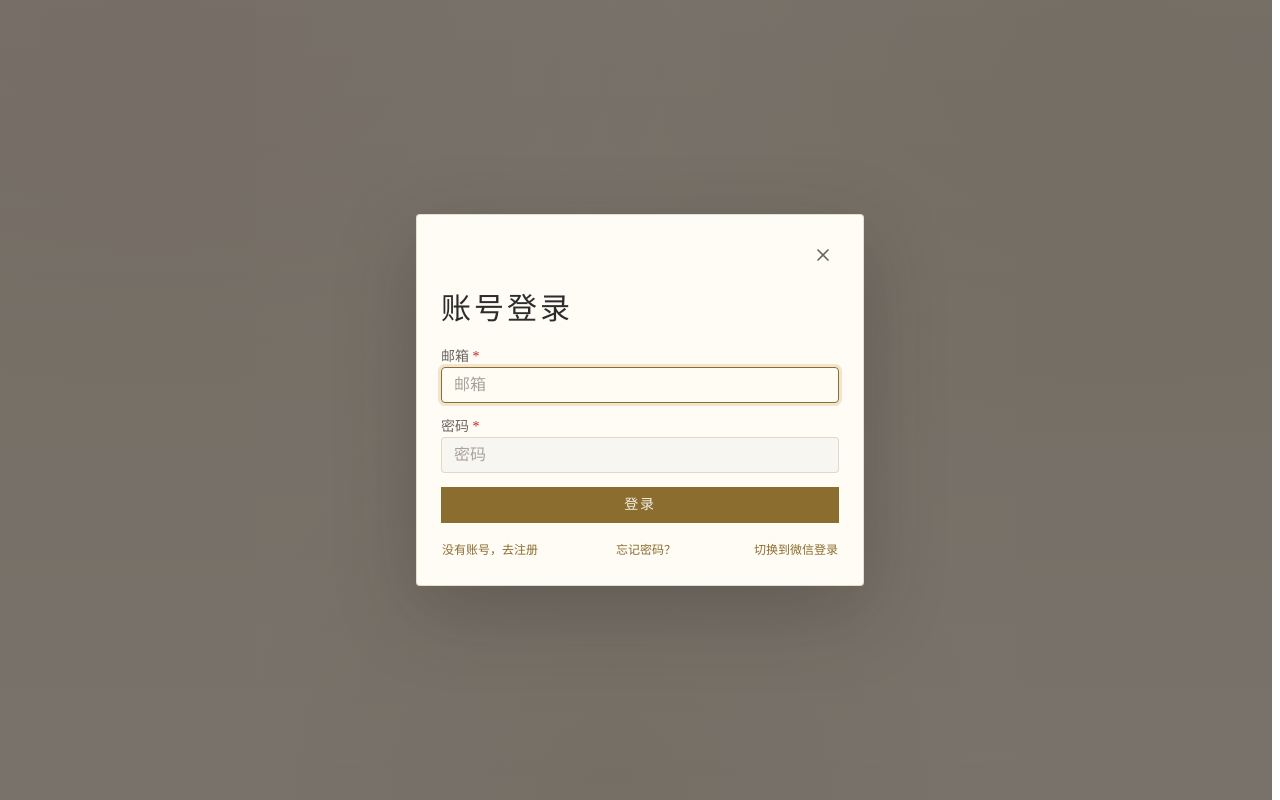
AuthModal › requests password reset from login mode
This screenshot has width=1280, height=800.
Click the button "忘记密码？". click: (646, 550)
box: [615,539,677,561]
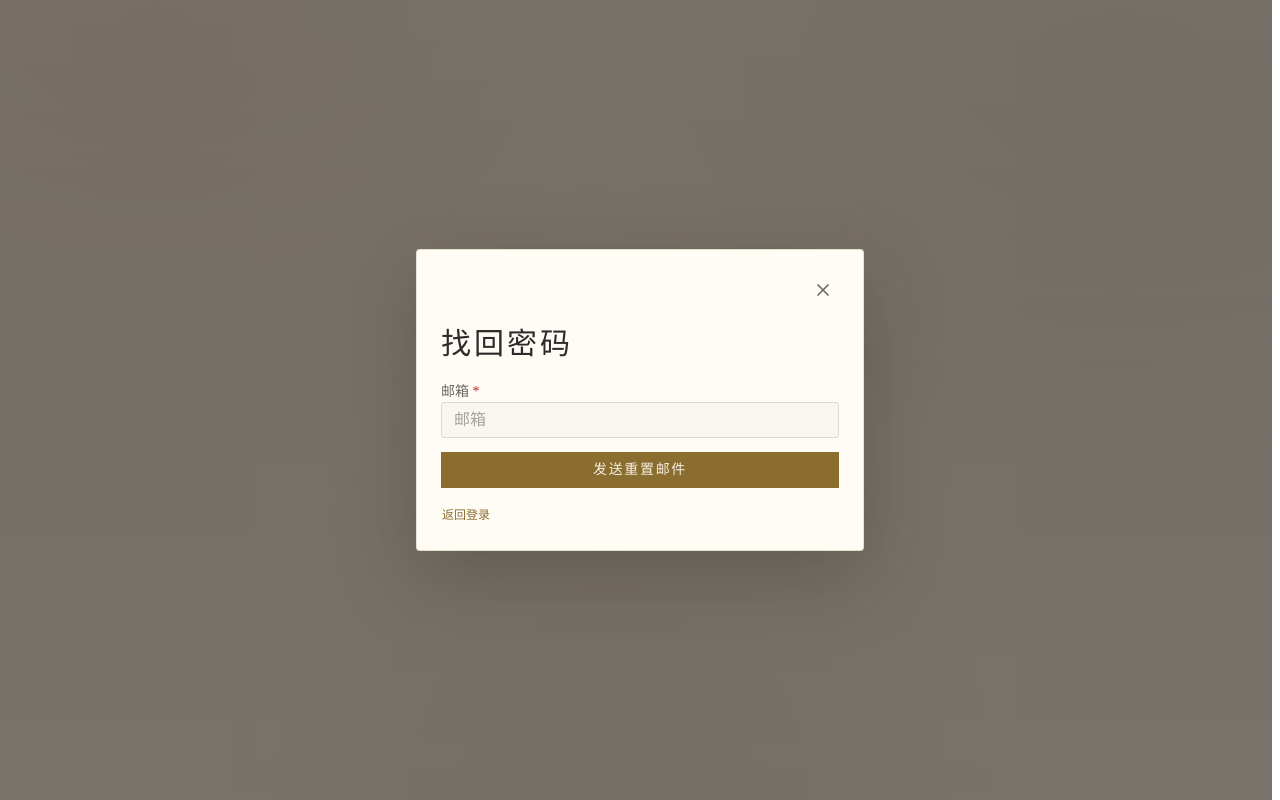
Expected: the heading "找回密码" is shown, [441,327,573,360]
Expected: the label labelled "密码 *" is gone
Type "reset@example.com" into the field labelled "邮箱 *". click: (640, 420)
box: [441,402,839,438]
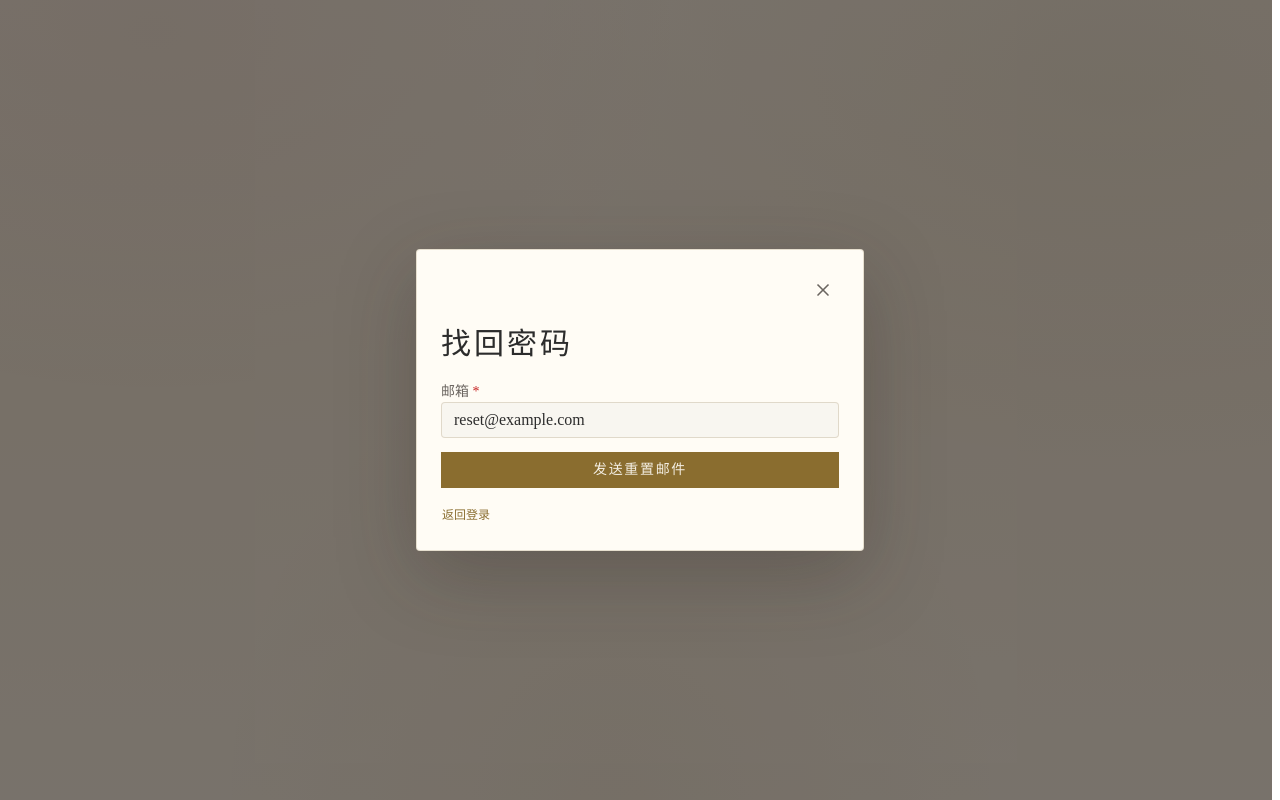
Submit the form "发送重置邮件", box [441,382,839,488]
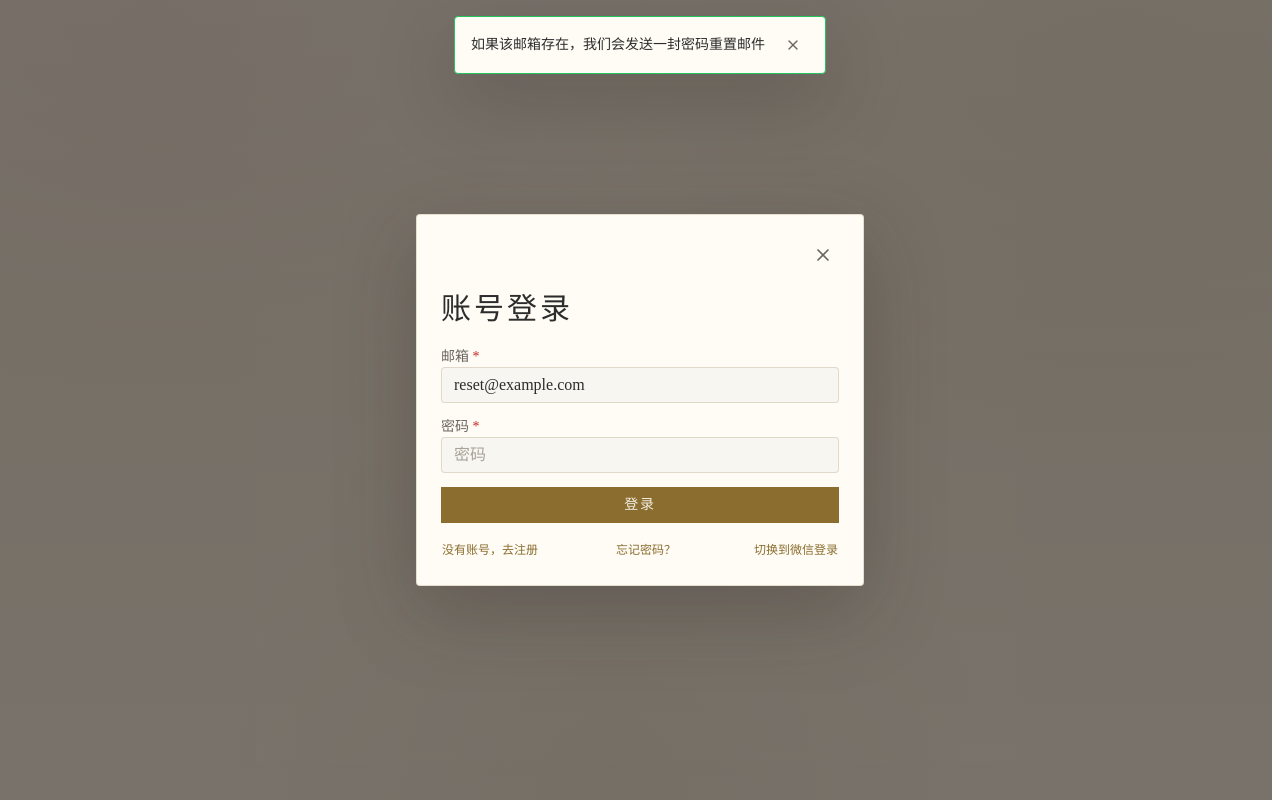
Expected: the heading "账号登录" is shown, [441,292,573,325]
